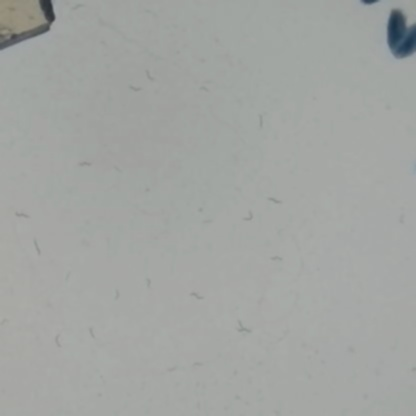worm: (194, 78, 226, 101), (251, 112, 275, 142), (22, 238, 53, 259), (160, 358, 189, 379), (388, 203, 408, 229), (50, 332, 74, 351), (13, 209, 38, 226), (185, 285, 206, 305), (231, 315, 252, 335), (123, 80, 148, 96), (112, 166, 133, 183), (191, 399, 212, 416), (262, 196, 287, 210), (141, 69, 164, 84), (276, 332, 299, 347), (143, 6, 162, 24), (192, 359, 213, 375), (85, 327, 103, 345), (240, 206, 257, 225), (71, 157, 94, 171), (69, 0, 89, 16), (140, 272, 153, 294), (199, 216, 218, 229), (267, 254, 287, 266), (62, 268, 77, 284), (0, 315, 14, 331), (110, 284, 120, 305)
